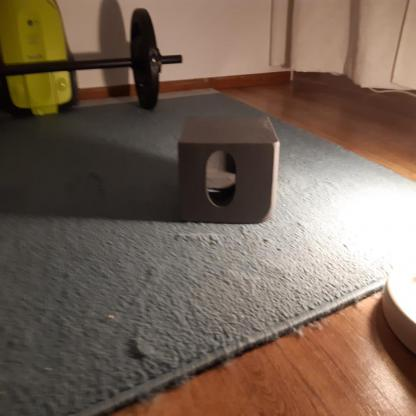CornerCasting: (176, 111, 278, 225)
